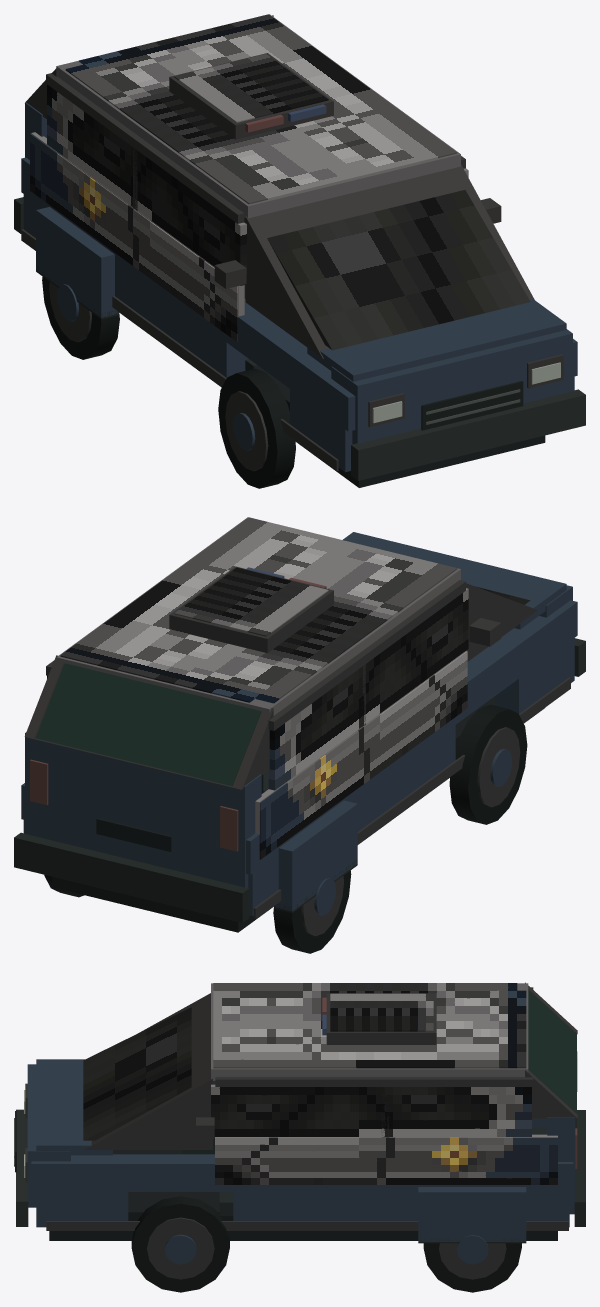
File: CMU3DRMCPropVehicleMonoSupronCop.glb
The picture shows the model from 3 angles, top to bottom: view 1: azimuth 30°, elevation 25°; view 2: azimuth 150°, elevation 25°; view 3: azimuth 270°, elevation 25°; orthographic projection. The views are drawn at different scales.
Parts seen in each view (by area): view 1: source roof panel, continuous sloped windshield, painted side door -1 0, side glazing -1 0, sloping windshield surround, nose lower panel, front bumper, hood top, upper wheel arch rail -1, roof base, roof pod original top, rear wheel cover (+17 smaller); view 2: source roof panel, rear tailgate, raked rear glazing, painted side door -1 0, side glazing -1 0, rear black bumper, upper wheel arch rail -1, roof pod original top, rear wheel cover, tire 1 -1, lower skirt -1 1, hood top (+18 smaller); view 3: source roof panel, painted side door 1 0, side glazing 1 0, continuous sloped windshield, lower skirt 1 1, sloping windshield surround, upper wheel arch rail 1, rear wheel cover, hood top, chassis dark underside, tire 1 1, roof pod original top (+20 smaller).
Boxes of the visible parts, x1,y1,x2,y2 form: source roof panel: (65, 14, 457, 204); continuous sloped windshield: (267, 190, 530, 350); painted side door -1 0: (30, 133, 237, 341); side glazing -1 0: (47, 84, 246, 285); sloping windshield surround: (245, 164, 534, 358); nose lower panel: (331, 329, 572, 444); front bumper: (351, 389, 585, 480); hood top: (307, 299, 566, 381); upper wheel arch rail -1: (21, 157, 355, 431); roof base: (56, 14, 460, 218); roof pod original top: (174, 54, 328, 122); rear wheel cover: (36, 207, 119, 317); source roof panel: (60, 517, 457, 703); rear tailgate: (25, 732, 261, 887); raked rear glazing: (35, 663, 261, 785); painted side door -1 0: (259, 651, 467, 859); side glazing -1 0: (268, 588, 468, 790); rear black bumper: (14, 832, 249, 922); upper wheel arch rail -1: (246, 600, 577, 874); roof pod original top: (174, 567, 328, 636); rear wheel cover: (274, 800, 357, 911); tire 1 -1: (449, 704, 527, 824); lower skirt -1 1: (343, 718, 455, 831); hood top: (343, 532, 566, 629); source roof panel: (213, 983, 526, 1068); painted side door 1 0: (215, 1137, 557, 1184); side glazing 1 0: (211, 1084, 531, 1136); continuous sloped windshield: (83, 1007, 191, 1140); lower skirt 1 1: (233, 1185, 419, 1220); sloping windshield surround: (85, 993, 212, 1149); upper wheel arch rail 1: (31, 1154, 573, 1191); rear wheel cover: (418, 1187, 526, 1241); hood top: (36, 1059, 112, 1155); chassis dark underside: (49, 1150, 557, 1240); tire 1 1: (131, 1196, 229, 1292); roof pod original top: (330, 993, 433, 1031).
Bounding box in the file's own units: 0.9117 × 0.8778 × 1.98.
26 materials, 5 textured.
